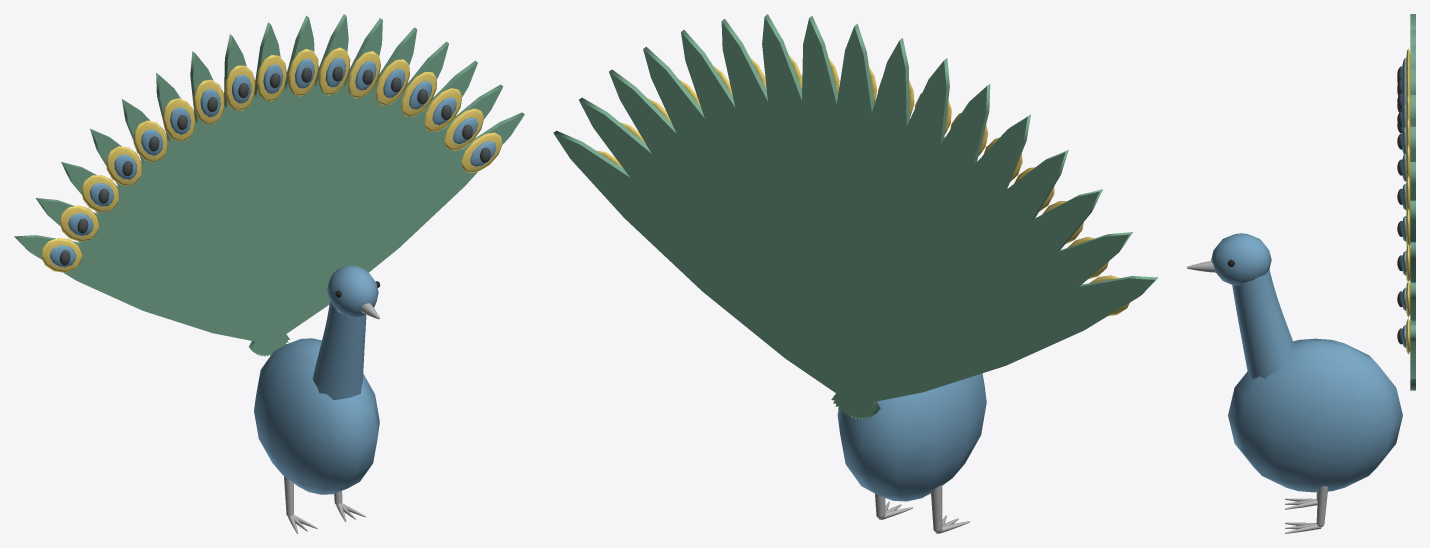
The model's file is birds-and-flying-creatures-indian-peacock-displayed-4a336b9c__20648.glb.
3 renders of one model, left to right at view 1: azimuth 30°, elevation 25°; view 2: azimuth 150°, elevation 25°; view 3: azimuth 270°, elevation 25°, orthographic. The views are drawn at different scales.
Visible parts, largest first — view 1: indian-peacock-displayed; view 2: indian-peacock-displayed; view 3: indian-peacock-displayed.
Boxes of the visible parts, x1=… form: indian-peacock-displayed: x1=14, y1=14, x2=524, y2=533; indian-peacock-displayed: x1=553, y1=14, x2=1158, y2=533; indian-peacock-displayed: x1=1187, y1=14, x2=1415, y2=533.
Bounding box in the file's own units: 1.79 × 1.54 × 0.6801.
